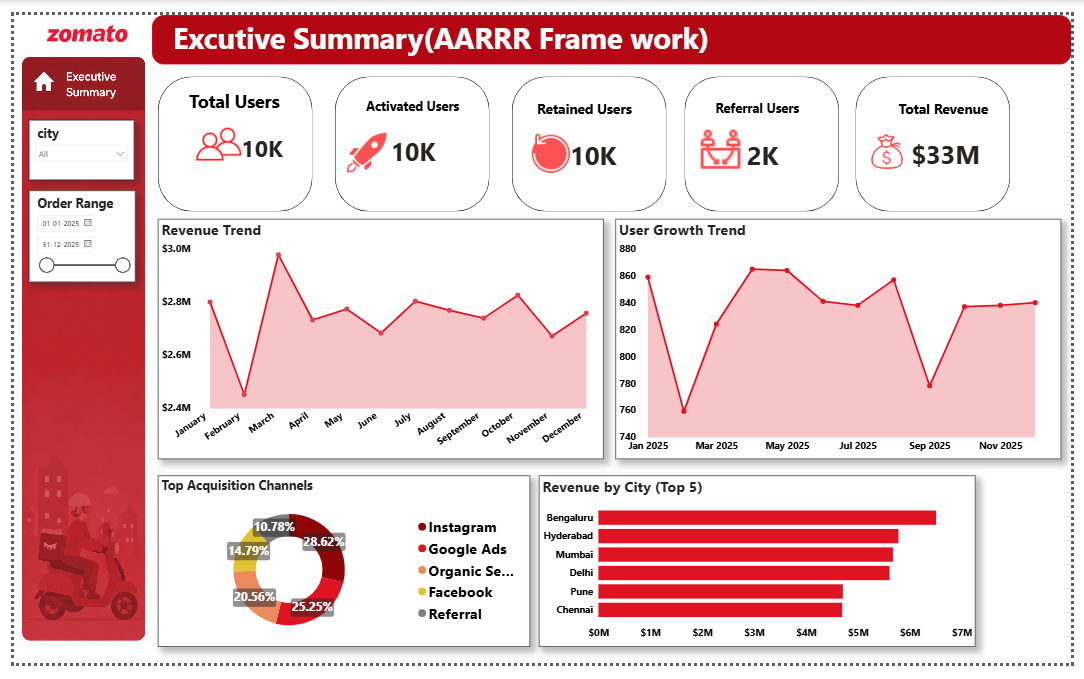

This screenshot's page, from the dashboard's own definition file:
{"tool":"powerbi","page":{"name":"Page 1","canvas":[1762,1080],"ordinal":0},"visuals":[{"type":"image","box":[0,65,240,987.5],"z":0},{"type":"image","box":[0,0,240,65],"z":1000},{"type":"shape","box":[240,102.5,257.5,225],"z":2000},{"type":"shape","box":[535,102.5,257.5,225],"z":3000},{"type":"shape","box":[830,102.5,257.5,225],"z":4000},{"type":"shape","box":[1117.5,102.5,257.5,225],"z":5000},{"type":"shape","box":[1402.5,102.5,257.5,225],"z":6000},{"type":"cardVisual","fields":{"Data":["users.Total Users"]},"box":[262.5,82.5,215,205],"z":7000},{"type":"cardVisual","fields":{"Data":["users.Activated Users"]},"box":[557.5,102.5,215,185],"z":8000},{"type":"cardVisual","fields":{"Data":["users.Retained Users"]},"box":[842.5,72.5,245,255],"z":9000},{"type":"cardVisual","fields":{"Data":["users.Referral Users"]},"box":[1140,107.5,215,185],"z":10000},{"type":"cardVisual","fields":{"Data":["users.Total Revenue"]},"box":[1445,107.5,215,185],"z":11000},{"type":"image","box":[295,167.5,92.5,95],"z":12000},{"type":"image","box":[535,195,107.5,67.5],"z":13000},{"type":"image","box":[842.5,195,105,72.5],"z":14000},{"type":"image","box":[1140,185,75,77.5],"z":15000},{"type":"image","box":[1402.5,197.5,105,62.5],"z":16000},{"type":"stackedAreaChart","title":"Revenue Trend","fields":{"Category":["orders(1).order_date.Variation.Date Hierarchy.Month"],"Y":["users.Total Revenue"]},"box":[240,340,742.5,400],"z":17000},{"type":"stackedAreaChart","title":"User Growth Trend","fields":{"Y":["users.New Users"],"Category":["users.signup_date.Variation.Date Hierarchy.Year","users.signup_date.Variation.Date Hierarchy.Month"]},"box":[1002.5,340,742.5,400],"z":18000},{"type":"donutChart","title":"Top Acquisition Channels","fields":{"Category":["users.acquisition_source"],"Y":["users.Total Users"]},"box":[240,767.5,620,285],"z":19000},{"type":"clusteredBarChart","title":"Revenue by City (Top 5)","fields":{"Category":["restaurants.city"],"Y":["users.Total Revenue"]},"box":[875,767.5,727.5,285],"z":20000},{"type":"slicer","fields":{"Values":["restaurants.city"]},"box":[25,175,175,100],"z":21000},{"type":"slicer","fields":{"Values":["orders(1).order_date"]},"box":[25,292.5,177.5,152.5],"z":22000},{"type":"shape","box":[230,0,1532.5,82.5],"z":23000},{"type":"textbox","box":[260,0,1037.5,82.5],"z":24000}]}

Visuals, with their boxes in screenshot pixels (x1, y1, x2, y2), scaled from the page's 1762x1080 canvas onto the 1084x679 screenshot:
image: l=0, t=41, r=148, b=662
image: l=0, t=0, r=148, b=41
shape: l=148, t=64, r=306, b=206
shape: l=329, t=64, r=488, b=206
shape: l=511, t=64, r=669, b=206
shape: l=687, t=64, r=846, b=206
shape: l=863, t=64, r=1021, b=206
cardVisual - users.Total Users: l=161, t=52, r=294, b=181
cardVisual - users.Activated Users: l=343, t=64, r=475, b=181
cardVisual - users.Retained Users: l=518, t=46, r=669, b=206
cardVisual - users.Referral Users: l=701, t=68, r=834, b=184
cardVisual - users.Total Revenue: l=889, t=68, r=1021, b=184
image: l=181, t=105, r=238, b=165
image: l=329, t=123, r=395, b=165
image: l=518, t=123, r=583, b=168
image: l=701, t=116, r=747, b=165
image: l=863, t=124, r=927, b=163
"Revenue Trend" stackedAreaChart: l=148, t=214, r=604, b=465
"User Growth Trend" stackedAreaChart: l=617, t=214, r=1074, b=465
"Top Acquisition Channels" donutChart: l=148, t=483, r=529, b=662
"Revenue by City (Top 5)" clusteredBarChart: l=538, t=483, r=986, b=662
slicer - restaurants.city: l=15, t=110, r=123, b=173
slicer - orders(1).order_date: l=15, t=184, r=125, b=280
shape: l=141, t=0, r=1083, b=52
textbox: l=160, t=0, r=798, b=52
